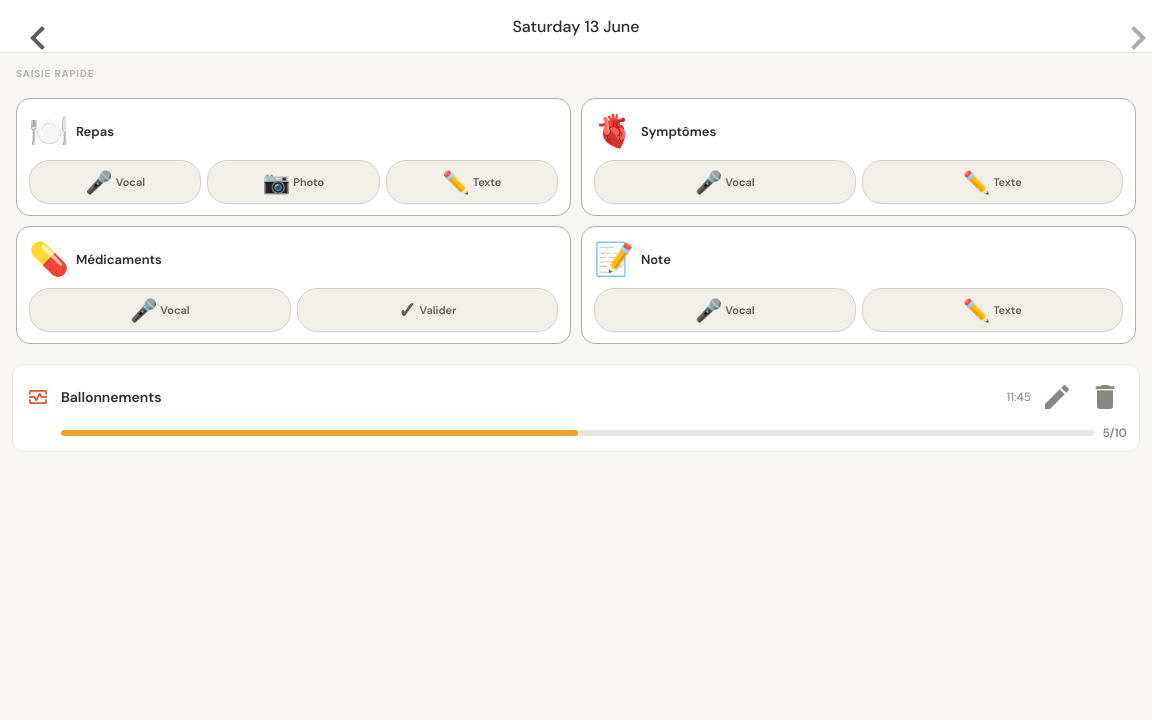
Scenario: JournalHomeComponent › boutons d'édition › le clic sur delete-symptom-btn supprime le symptôme et le retire de la liste
Click the button with test id "delete-symptom-btn".
click(1105, 397)  # box [1083,375,1127,419]
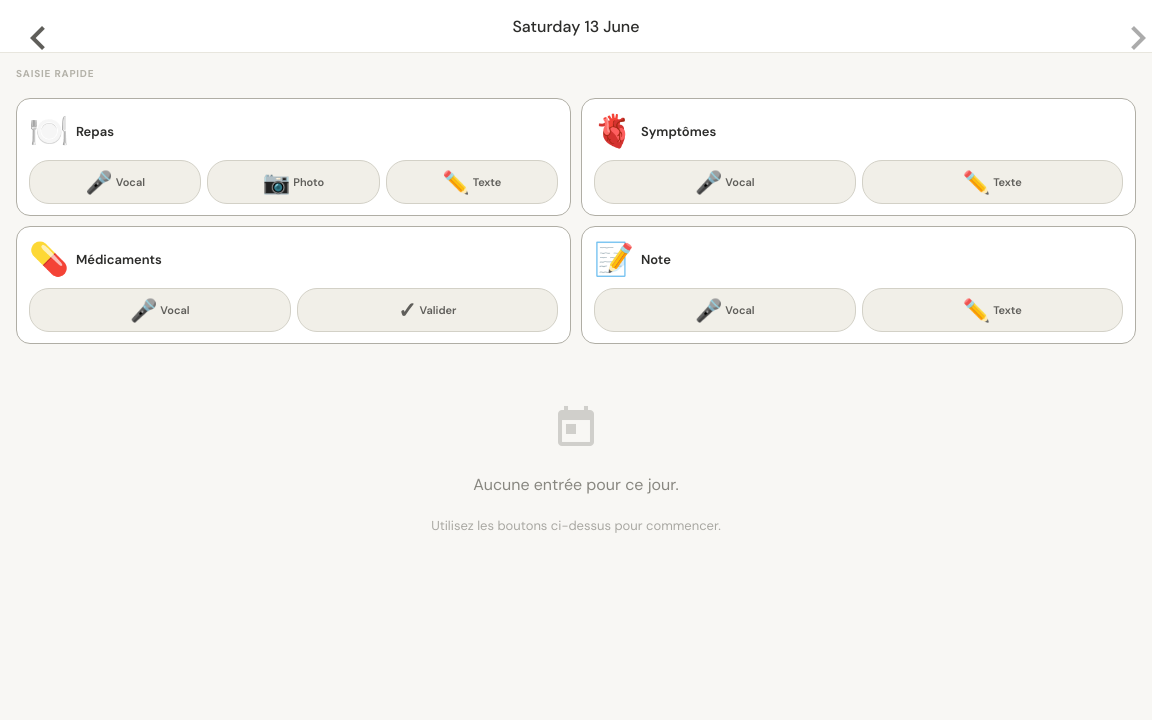
Expected: the element with test id "symptom-entry" is gone
